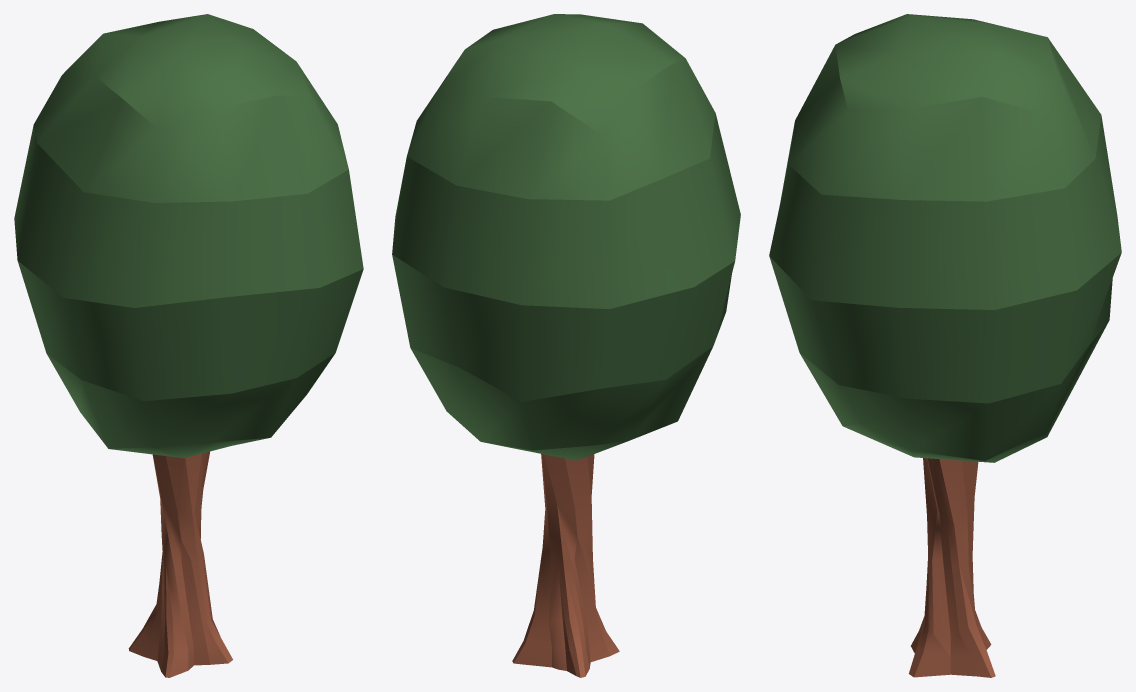
File: Tree_2_High.fbx
3 renders of one model, left to right at view 1: azimuth 30°, elevation 25°; view 2: azimuth 150°, elevation 25°; view 3: azimuth 270°, elevation 25°, orthographic. The views are drawn at different scales.
Visible parts, largest first — view 1: Tree_2_High; view 2: Tree_2_High; view 3: Tree_2_High.
Boxes of the visible parts, <box> form: Tree_2_High: <box>14,14,363,677</box>; Tree_2_High: <box>392,14,740,677</box>; Tree_2_High: <box>769,14,1121,677</box>.
Size of the model in its own units: 101 by 204 by 102.
